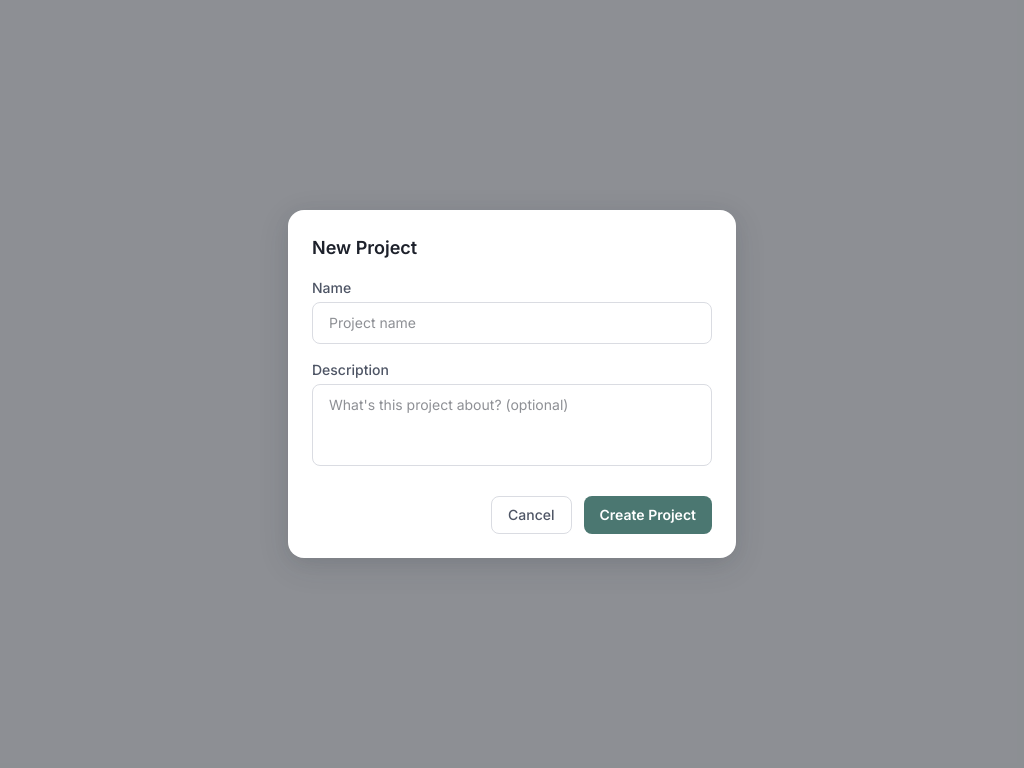
Test case: CreateProjectModal › shows API field errors
The image size is (1024, 768).
Step 1. Type "Test" into the field labelled "Name" → (512, 323), box [312, 302, 712, 344]
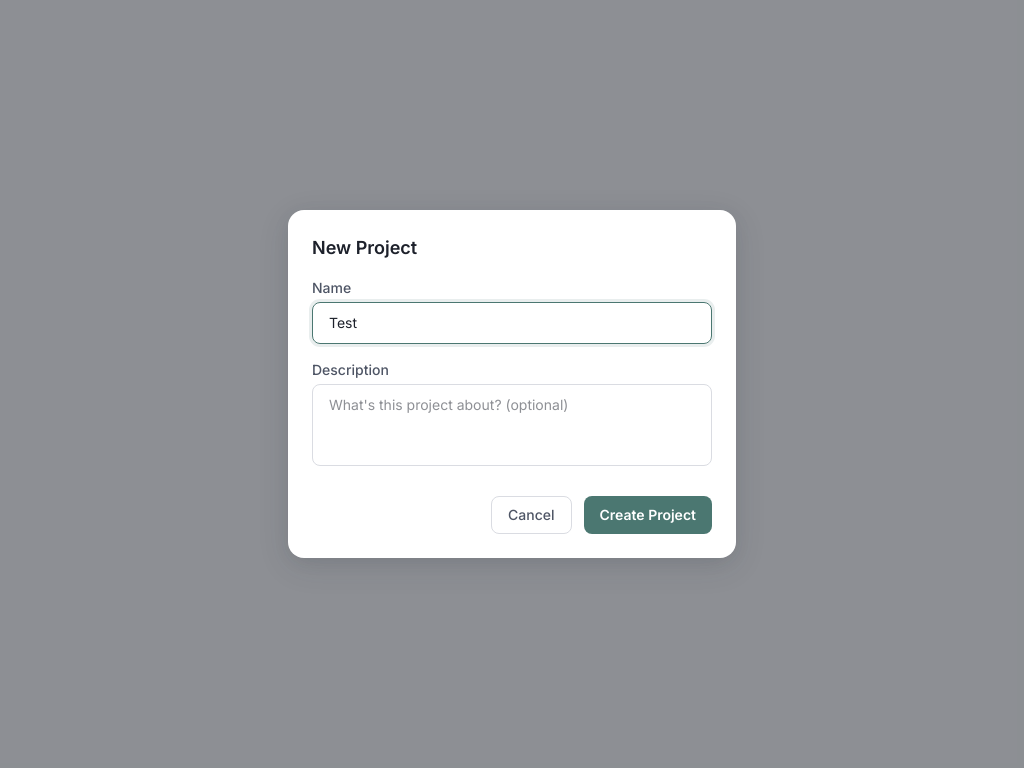
Step 2. Click the button "Create Project" → click(648, 515), box [584, 496, 712, 534]
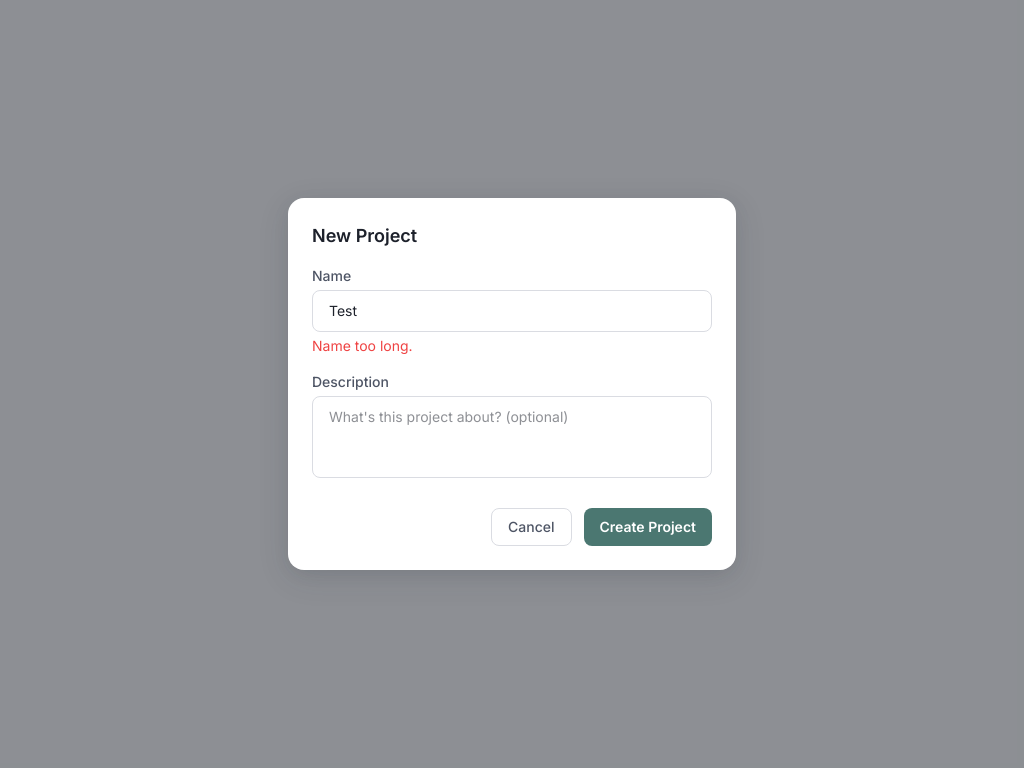
Result: the text "Name too long." is shown at [312, 337, 413, 354]
